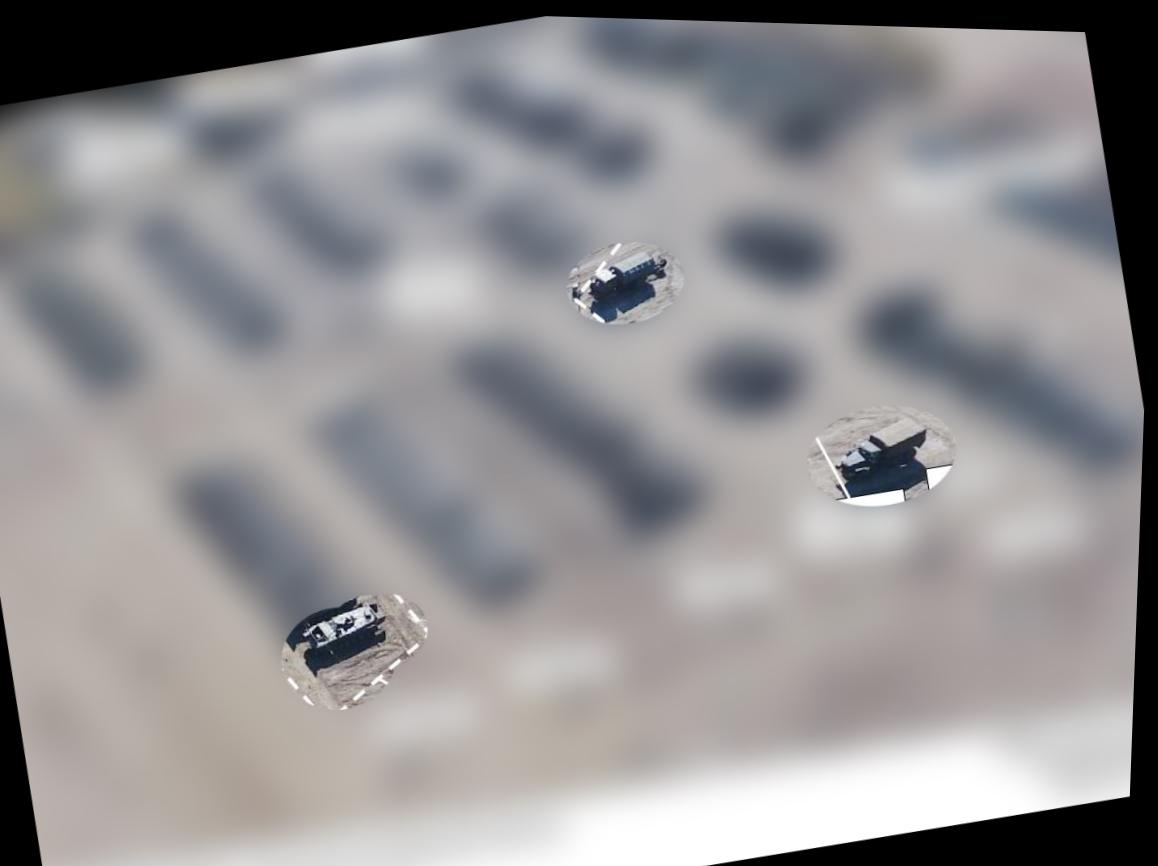armored_car: (290, 588, 397, 675)
truck: (823, 410, 939, 496), (573, 243, 676, 312)
